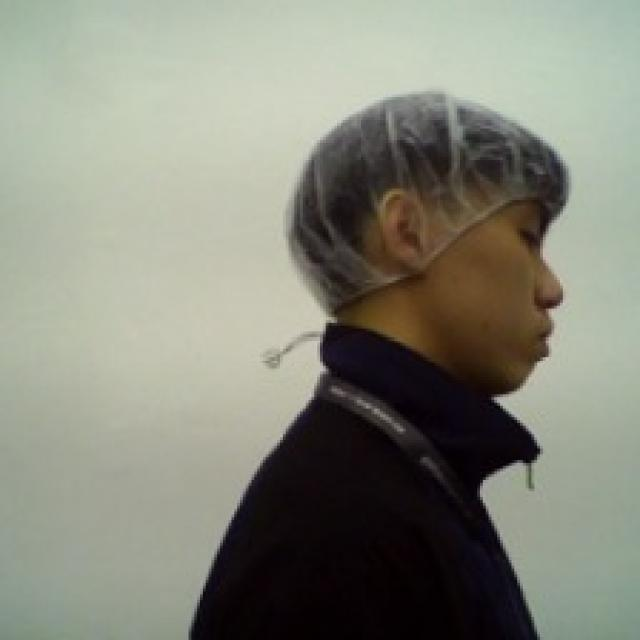gloves: (282, 87, 568, 326)
no_hairnet: (366, 192, 564, 410)
